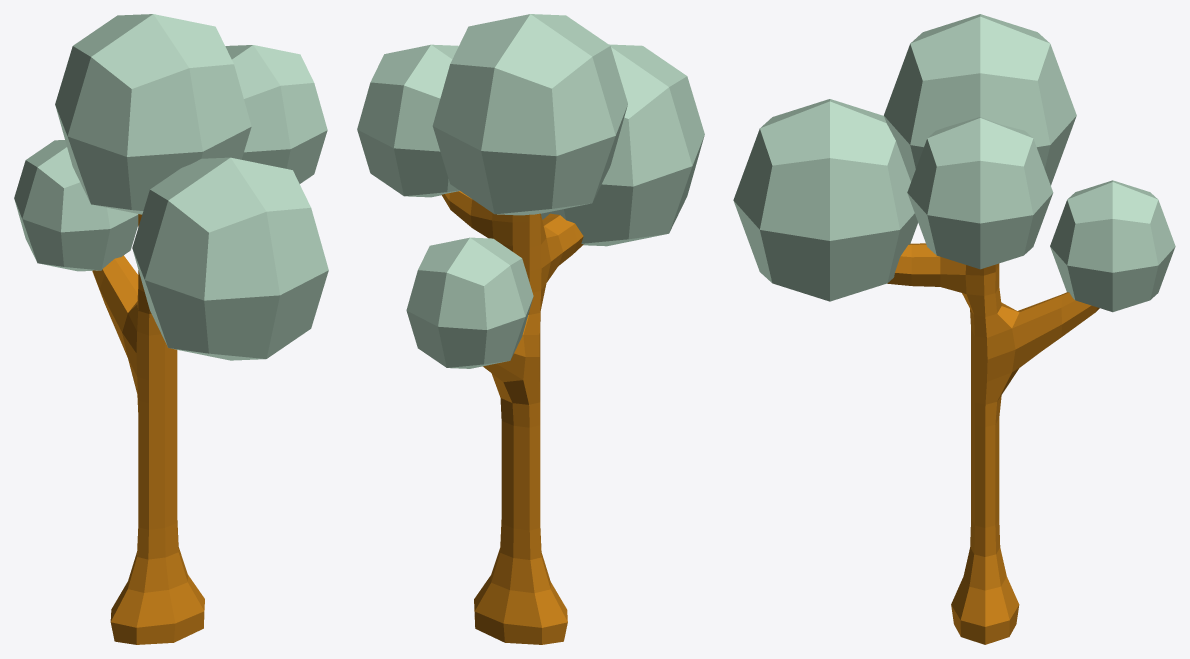
Rendered from Arbre2_big_lowpoly.fbx.
3 views of the same model, side by side, from view 1: azimuth 30°, elevation 25°; view 2: azimuth 150°, elevation 25°; view 3: azimuth 270°, elevation 25° (orthographic). The views are drawn at different scales.
Parts seen in each view (by area): view 1: Arbre2_big_lowpoly; view 2: Arbre2_big_lowpoly; view 3: Arbre2_big_lowpoly.
Boxes of the visible parts, bbox=[...] form: Arbre2_big_lowpoly: bbox=[14, 14, 328, 644]; Arbre2_big_lowpoly: bbox=[357, 14, 704, 644]; Arbre2_big_lowpoly: bbox=[733, 14, 1175, 644].
Bounding box in the file's own units: 3.34 × 8 × 5.24.
